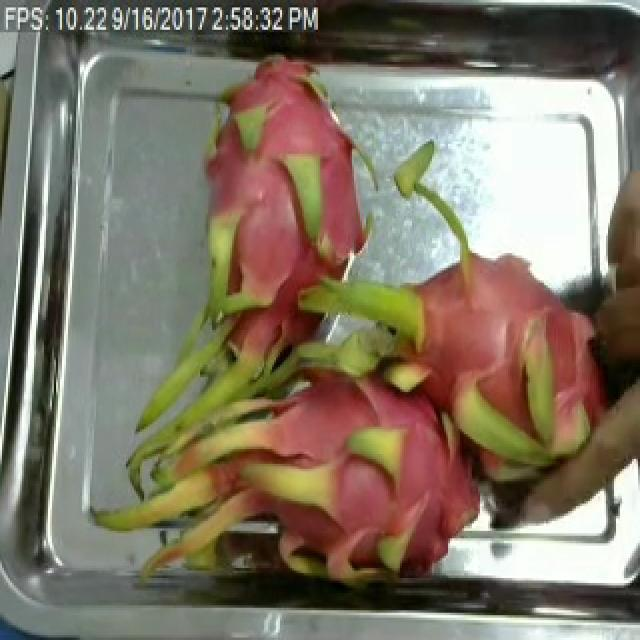Fruit: (582, 273, 640, 409)
